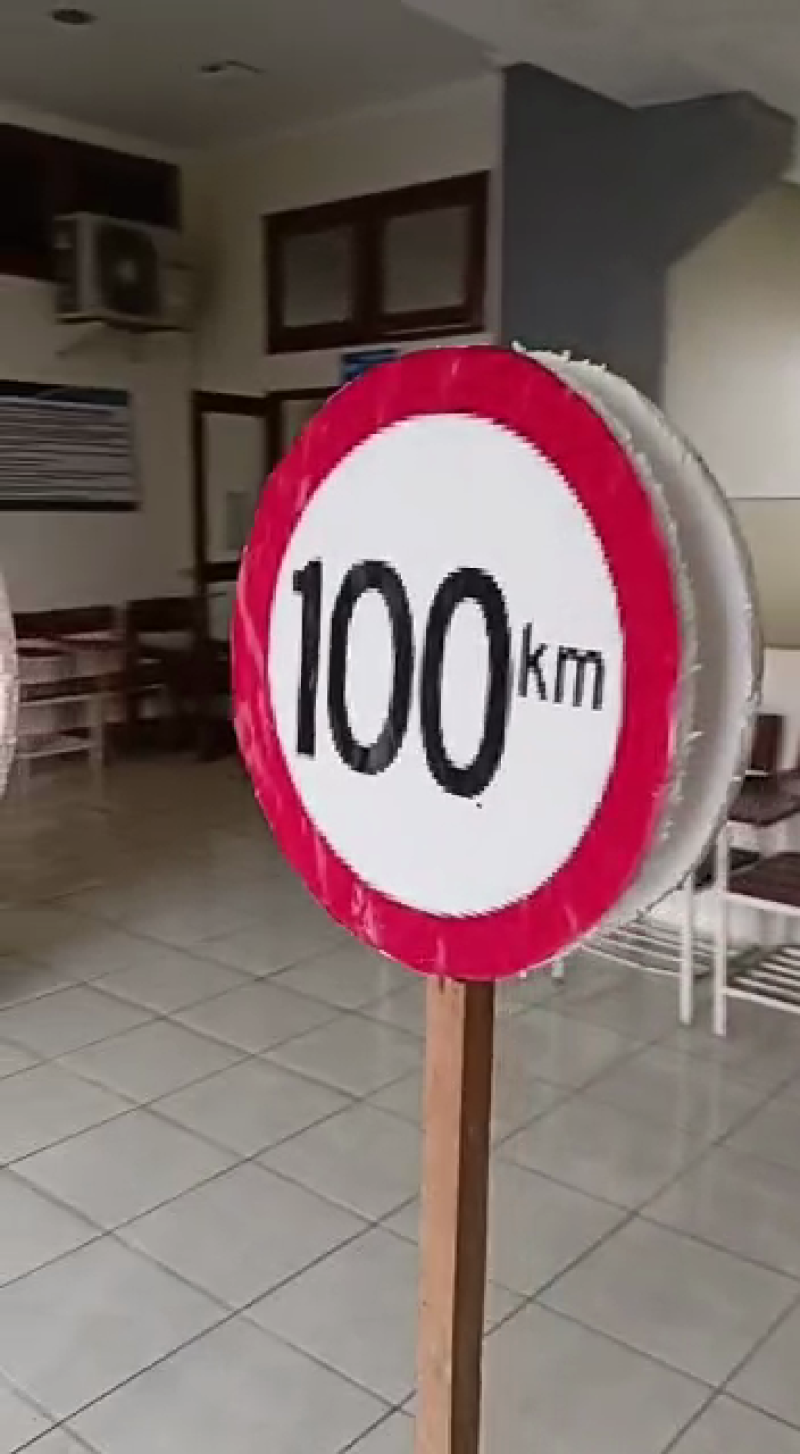batas maksimal 100kmperjam: (217, 324, 711, 1002)
